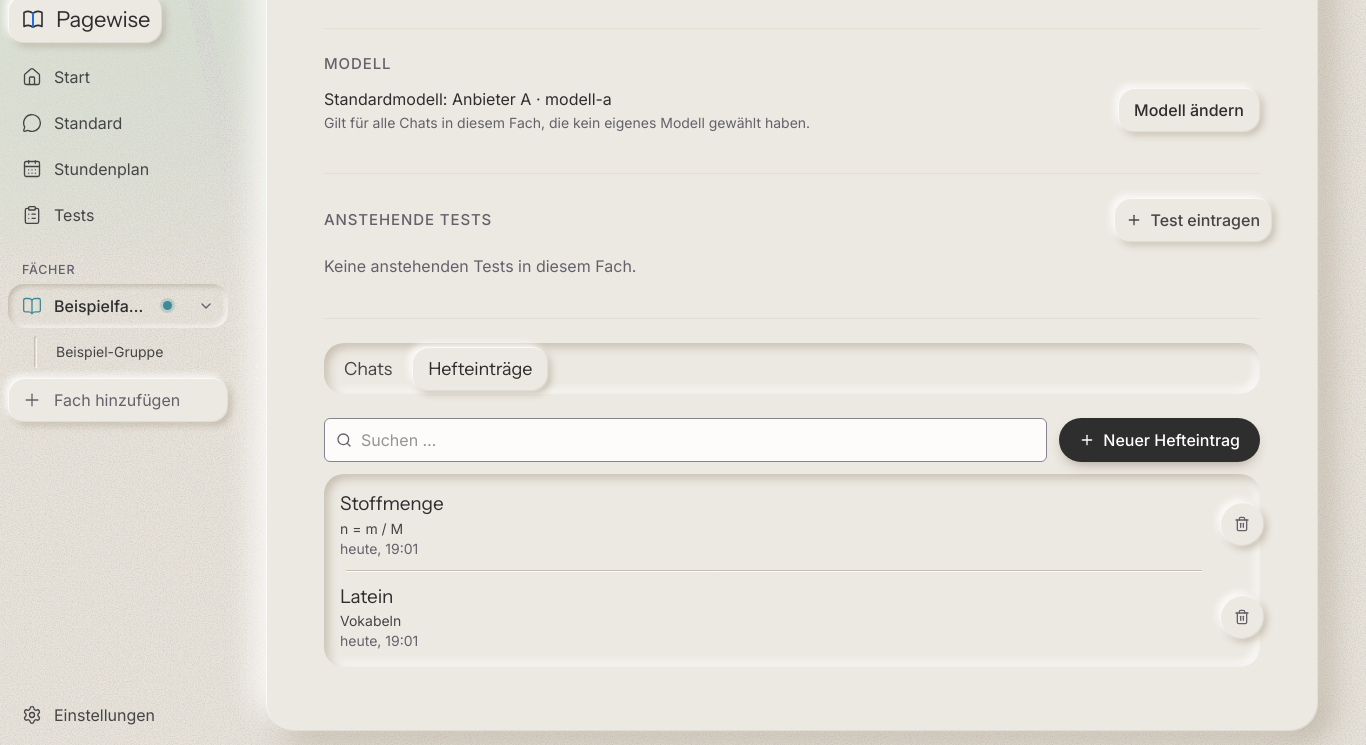
Liste der Hefteinträge › sucht auf dem Server in Titel und Text und meldet, wenn nichts passt
(page scrolled)
Expected: the text "Stoffmenge" is shown, [340,490,444,519]
Type "vokab" into the search field named "Hefteinträge durchsuchen". click: (686, 440)
box: [324,418,1047,462]
(page scrolled)
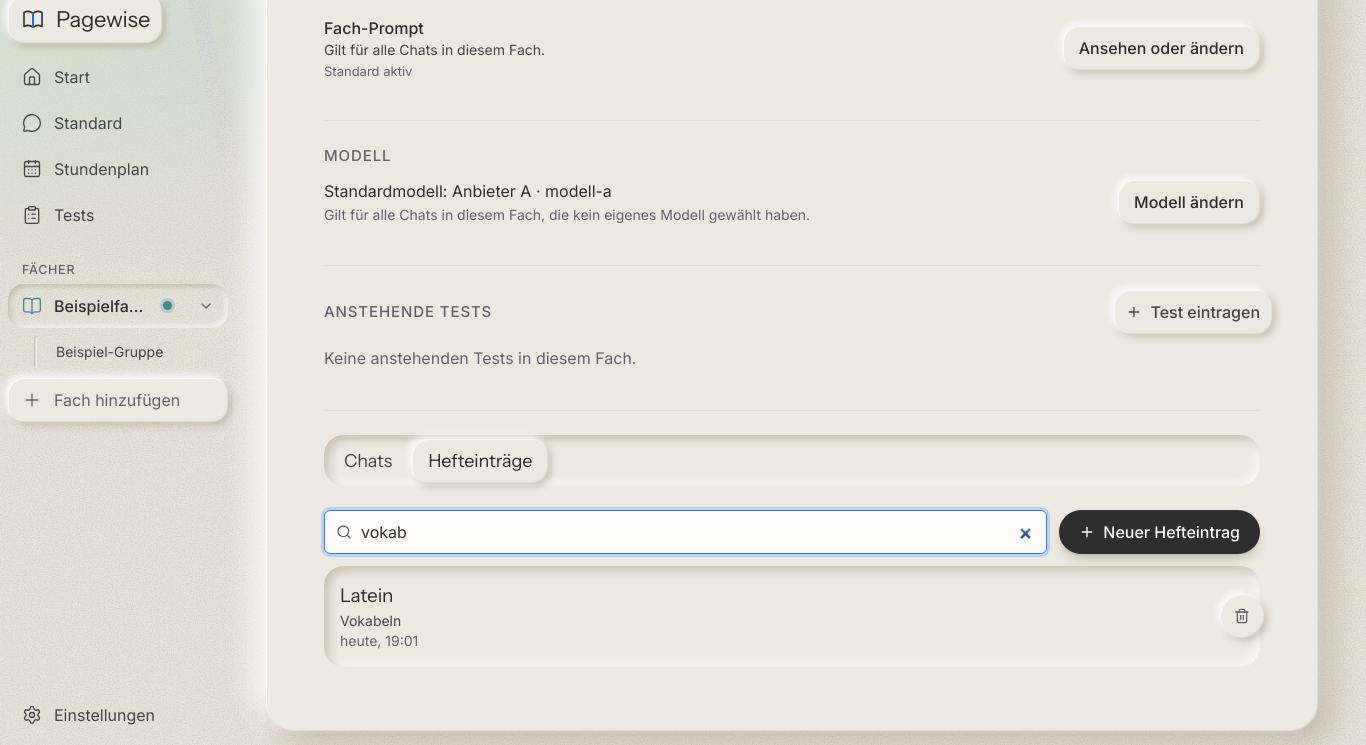
Expected: the text "Latein" is shown, [340,582,393,611]
Expected: the link "Stoffmenge" is gone
Clear the search field. click: (686, 532)
box: [324,510,1047,554]
(page scrolled)
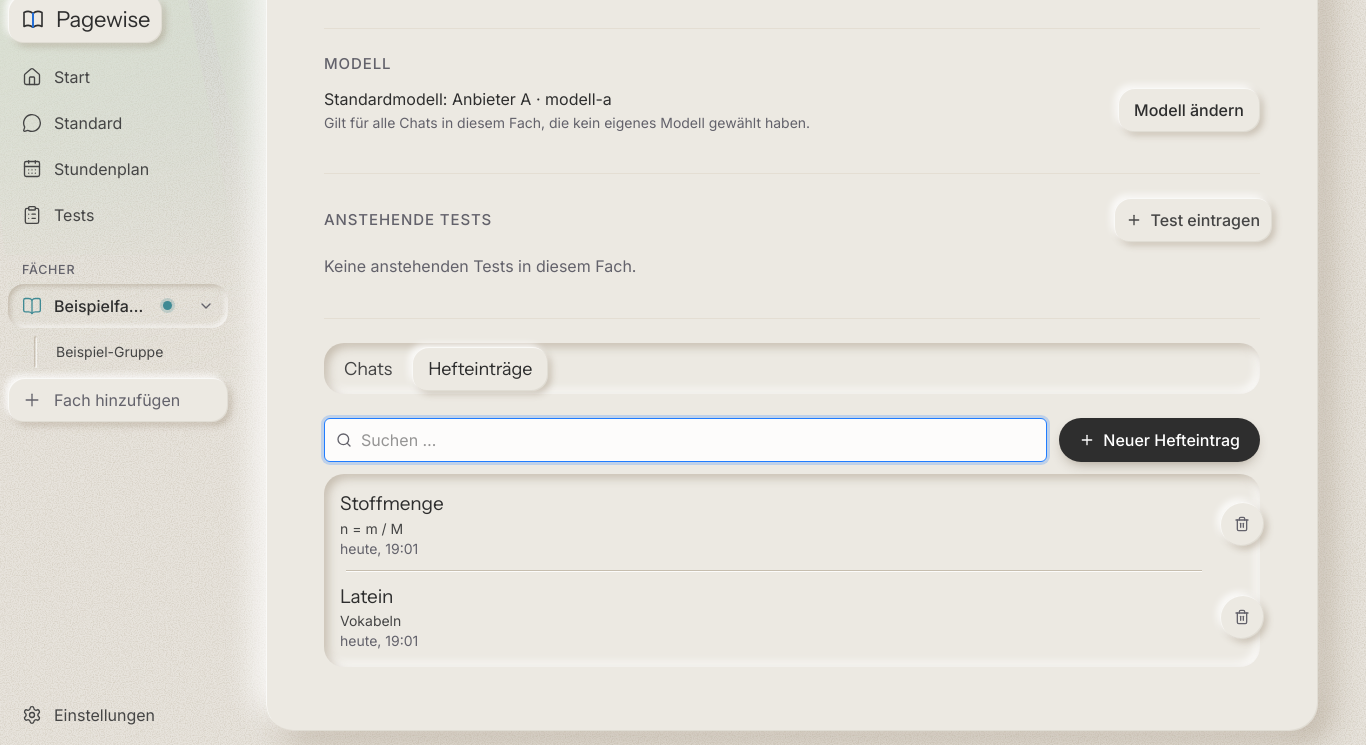
Type "gibtsnicht" into the search field. click: (686, 440)
box: [324,418,1047,462]
(page scrolled)
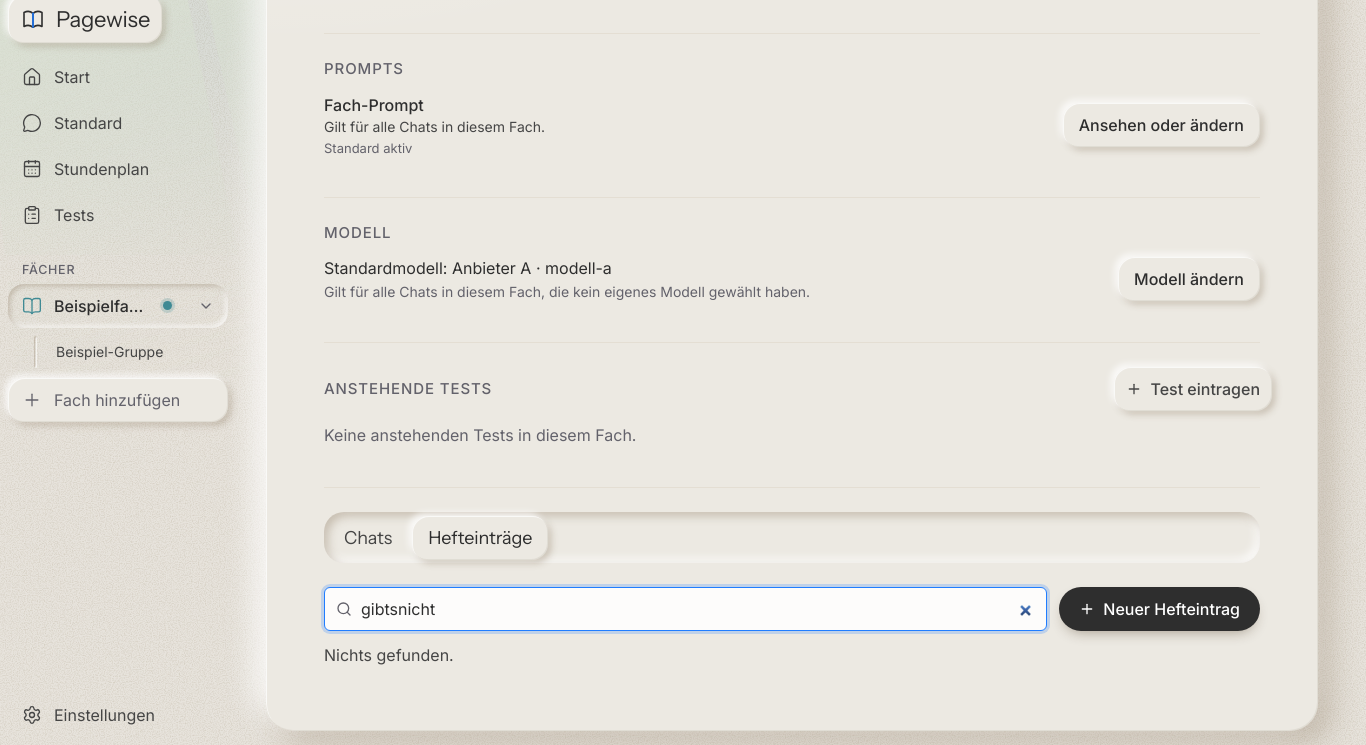
Expected: the text "Nichts gefunden." is shown, [324,645,454,665]
